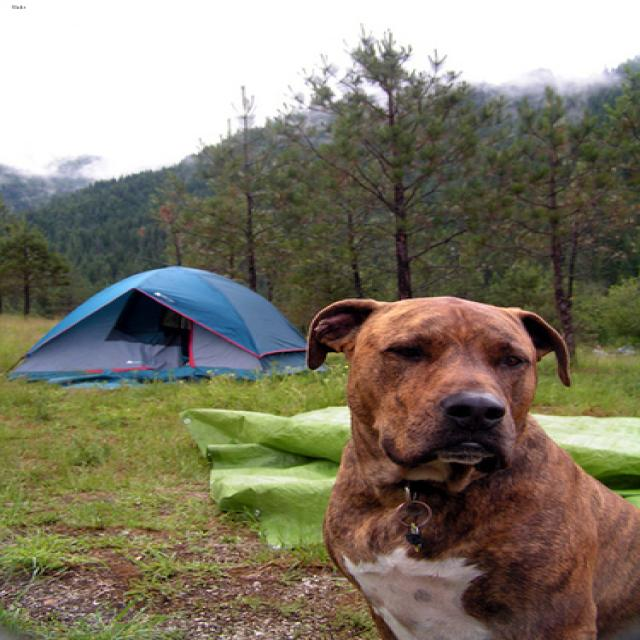dog-american_pit_bull_terrier: (295, 285, 637, 637)
